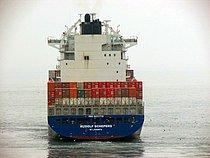Ship: (45, 13, 147, 143)
